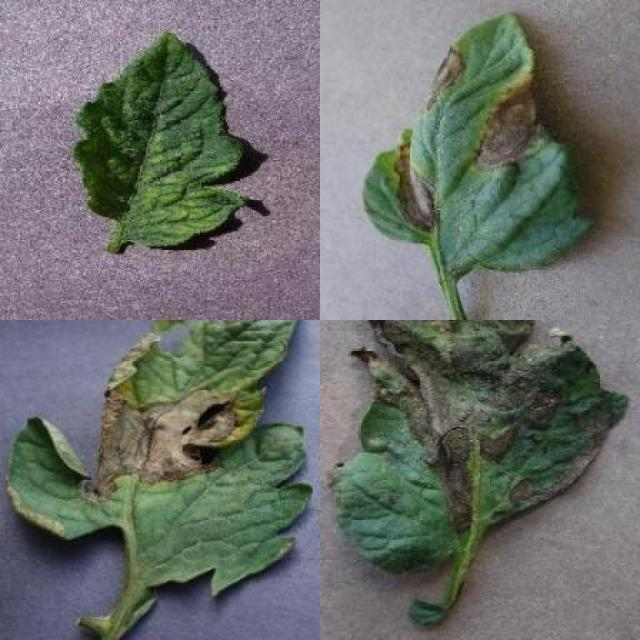Early Blight: (333, 320, 628, 580), (362, 10, 592, 274)
Late Blight: (5, 320, 312, 597)
Mosaic Virus: (75, 30, 248, 247)
